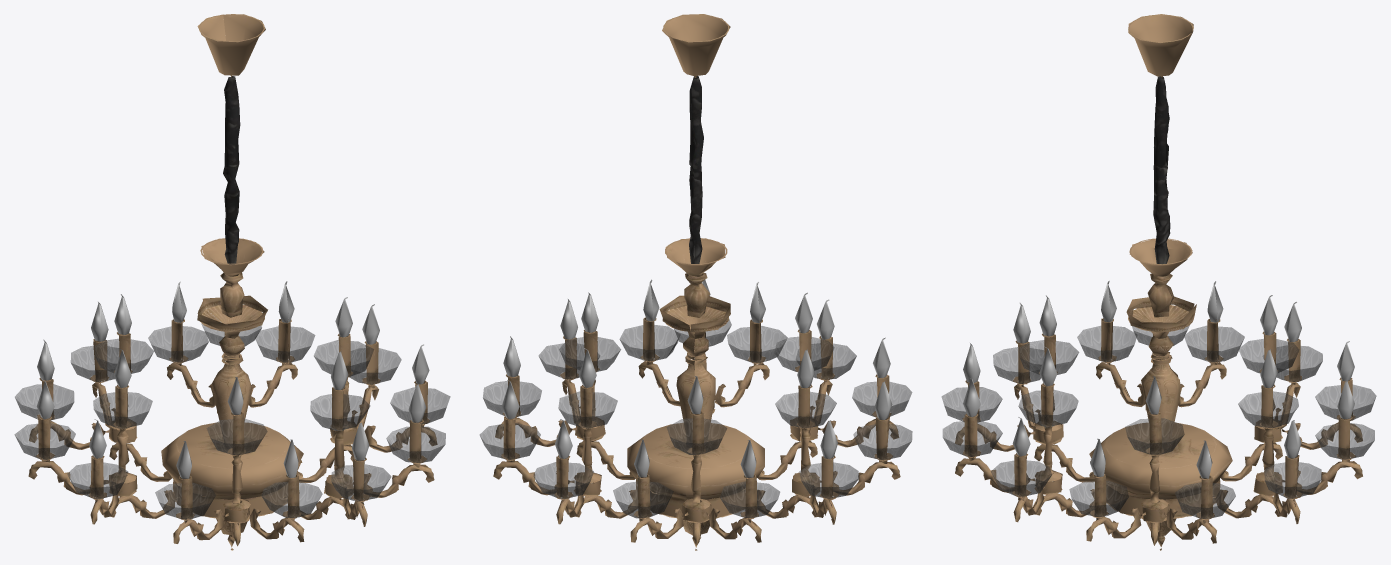
File: chandelier.glb
3 renders of one model, left to right at view 1: azimuth 30°, elevation 25°; view 2: azimuth 150°, elevation 25°; view 3: azimuth 270°, elevation 25°, orthographic.
Parts seen in each view (by area): view 1: chandelier; view 2: chandelier; view 3: chandelier.
Part boxes in pixels (x1=…): chandelier: x1=14, y1=14, x2=450, y2=550; chandelier: x1=479, y1=14, x2=912, y2=550; chandelier: x1=941, y1=14, x2=1376, y2=550.
Size of the model in its own units: 0.7829 by 1.04 by 0.7863.
Materials: 2 (2 with a texture image).
